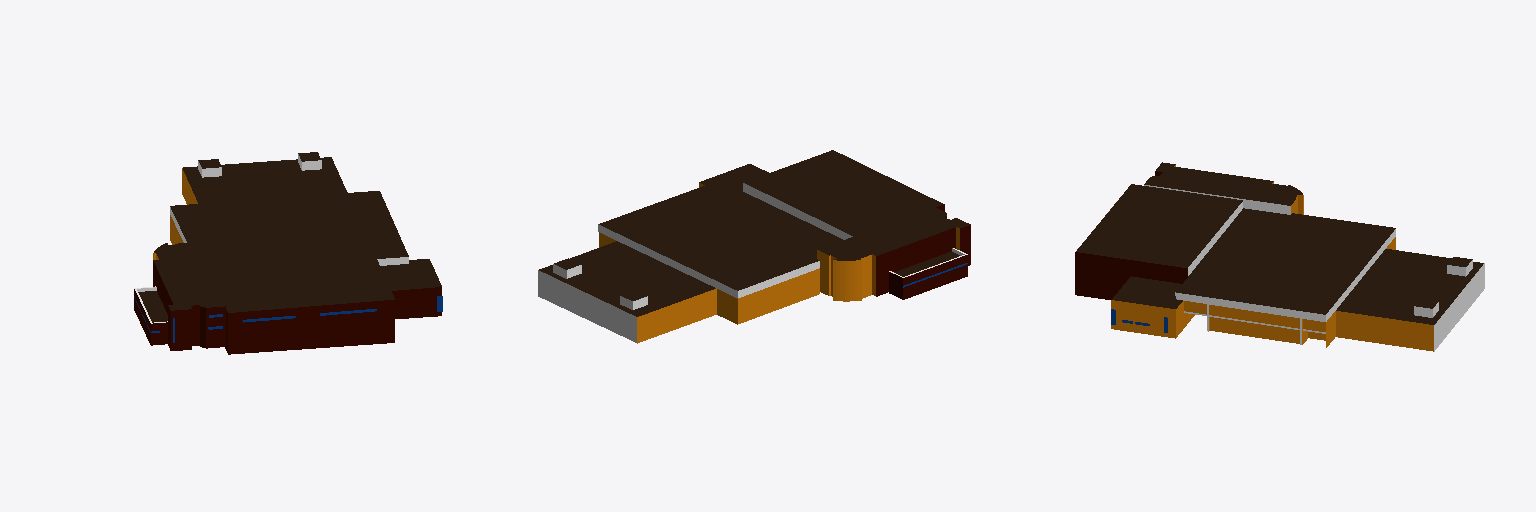
The model's file is Rac.obj.
3 renders of one model, left to right at view 1: azimuth 30°, elevation 25°; view 2: azimuth 150°, elevation 25°; view 3: azimuth 270°, elevation 25°, orthographic.
Visible parts, largest first — view 1: SM_ActivitiesCntr, SM_ActivitiesCntr_Wndws; view 2: SM_ActivitiesCntr; view 3: SM_ActivitiesCntr.
Boxes of the visible parts, <box> form: SM_ActivitiesCntr: <box>134,152,441,354</box>; SM_ActivitiesCntr_Wndws: <box>134,296,442,342</box>; SM_ActivitiesCntr: <box>538,150,970,343</box>; SM_ActivitiesCntr: <box>1075,162,1484,351</box>.
Bounding box in the file's own units: 10711 × 1567 × 12422.